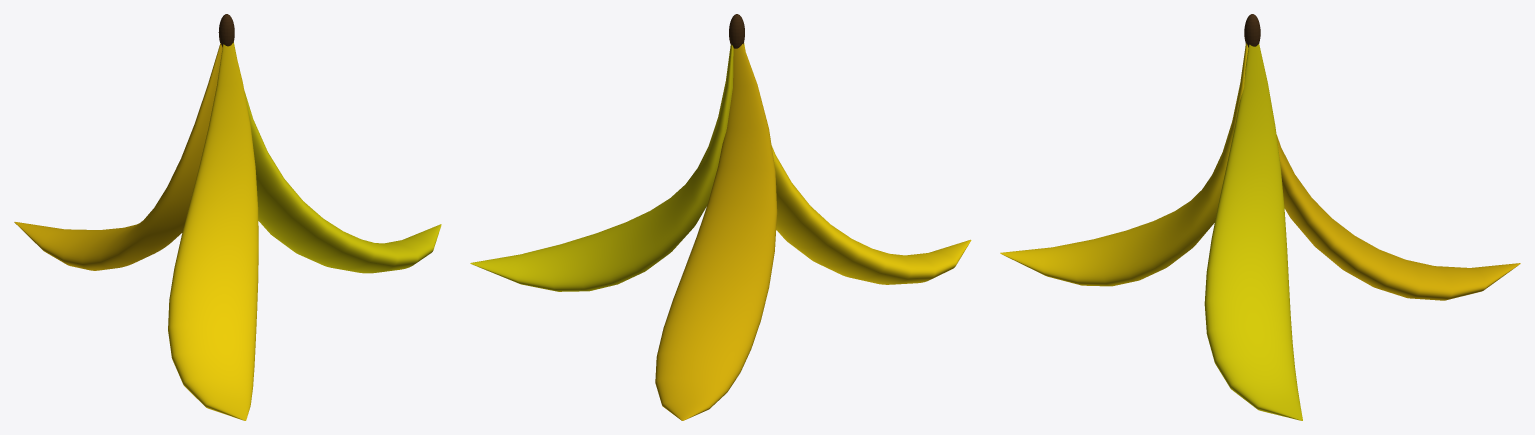
File: banana.fbx
The picture shows the model from 3 angles, left to right: view 1: azimuth 30°, elevation 25°; view 2: azimuth 150°, elevation 25°; view 3: azimuth 270°, elevation 25°; orthographic projection.
Visible parts, largest first — view 1: ベジエカーブ.001, ベジエカーブ.003, ベジエカーブ.002, 球; view 2: ベジエカーブ.003, ベジエカーブ.002, ベジエカーブ.001, 球; view 3: ベジエカーブ.002, ベジエカーブ.001, ベジエカーブ.003.
Boxes of the visible parts, x1=… form: ベジエカーブ.001: x1=168, y1=43, x2=258, y2=420; ベジエカーブ.003: x1=14, y1=43, x2=222, y2=270; ベジエカーブ.002: x1=233, y1=42, x2=441, y2=273; 球: x1=218, y1=14, x2=234, y2=47; ベジエカーブ.003: x1=655, y1=44, x2=777, y2=420; ベジエカーブ.002: x1=470, y1=44, x2=733, y2=291; ベジエカーブ.001: x1=743, y1=43, x2=971, y2=284; 球: x1=729, y1=14, x2=744, y2=48; ベジエカーブ.002: x1=1204, y1=44, x2=1302, y2=420; ベジエカーブ.001: x1=1000, y1=43, x2=1248, y2=286; ベジエカーブ.003: x1=1276, y1=135, x2=1520, y2=300.
Bounding box in the file's own units: 206 × 166 × 257.
